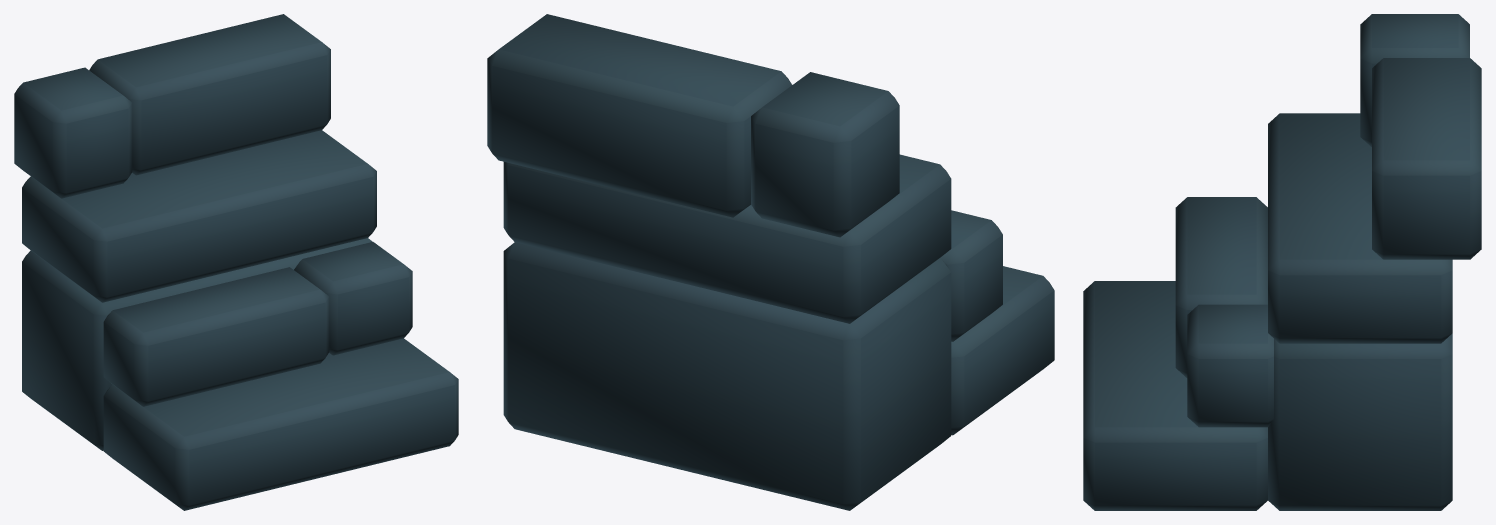
Rendered from stair_straight_2_hue_4.fbx.
The picture shows the model from 3 angles, left to right: view 1: azimuth 30°, elevation 25°; view 2: azimuth 150°, elevation 25°; view 3: azimuth 270°, elevation 25°; orthographic projection. The views are drawn at different scales.
Visible parts, largest first — view 1: stair_straight_2_hue_4; view 2: stair_straight_2_hue_4; view 3: stair_straight_2_hue_4.
Part boxes in pixels (x1,y1,x2,y2): stair_straight_2_hue_4: [14, 14, 458, 510]; stair_straight_2_hue_4: [487, 14, 1054, 510]; stair_straight_2_hue_4: [1083, 14, 1481, 510].
Bounding box in the file's own units: 100 × 105 × 108.
